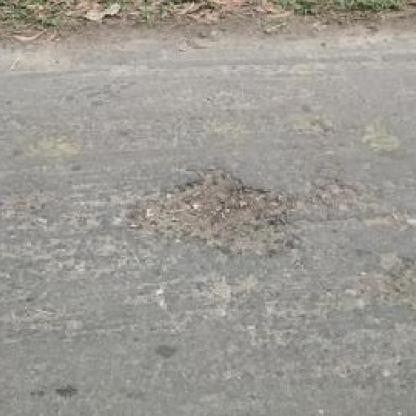pothole: (127, 168, 298, 259), (384, 254, 416, 324)
